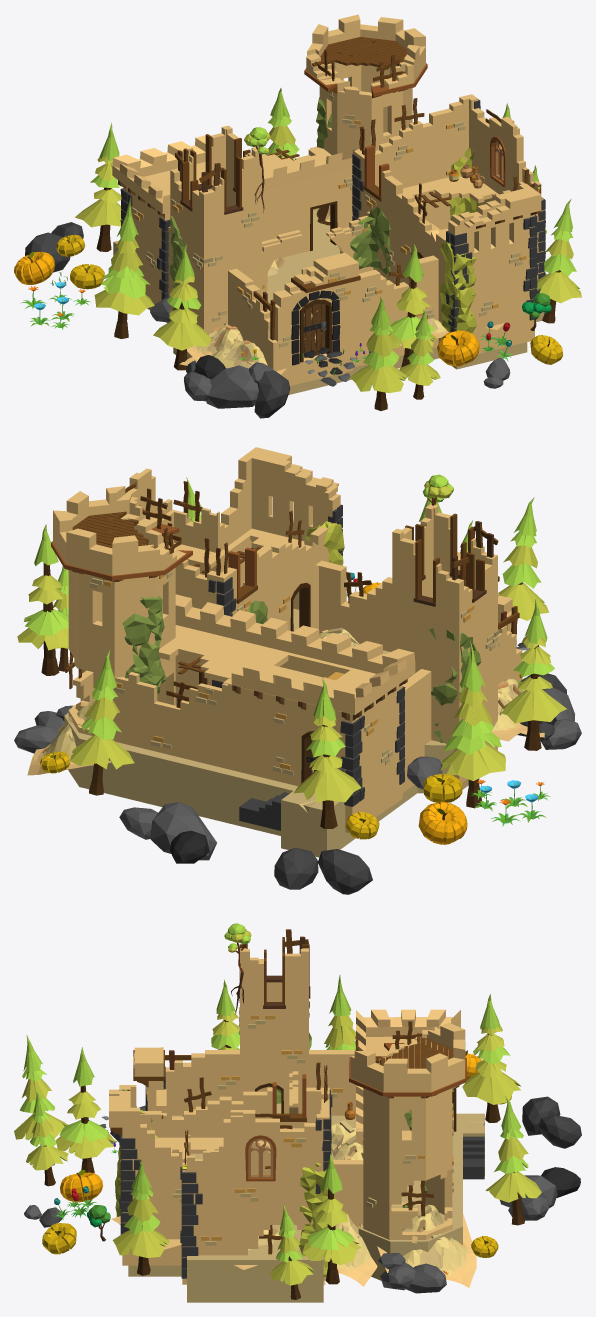
The model's file is CastleRuins.glb.
The picture shows the model from 3 angles, top to bottom: view 1: azimuth 30°, elevation 25°; view 2: azimuth 150°, elevation 25°; view 3: azimuth 270°, elevation 25°; orthographic projection. The views are drawn at different scales.
Parts seen in each view (by area): view 1: structure_2, structure_3, Tower, structure_1, walls, wall_3, battlement_1, forest.002_5, base, bricks, forest.002_3, forest.002_1 (+29 smaller); view 2: structure_1, structure_2, Tower, structure_3, base, battlement_1, walls, forest.002_5, forest.002_10, forest.002_3, forest.002_9, forest.002_7 (+27 smaller); view 3: structure_2, Tower, base, structure_3, walls, forest.002_10, forest.002_7, debris_10, forest.002_2, forest.002_6, forest.002_9, battlement_1 (+30 smaller).
Boxes of the visible parts, box(x1,y1,x2,y2) form: structure_2: box(354, 94, 543, 353); structure_3: box(170, 125, 261, 358); Tower: box(304, 14, 427, 226); structure_1: box(123, 146, 352, 304); walls: box(167, 227, 438, 375); wall_3: box(270, 252, 358, 385); battlement_1: box(112, 134, 364, 213); forest.002_5: box(94, 197, 154, 338); base: box(113, 210, 546, 394); bricks: box(132, 87, 526, 347); forest.002_3: box(153, 243, 211, 370); forest.002_1: box(350, 296, 406, 410); structure_1: box(112, 625, 402, 832); structure_2: box(125, 447, 340, 685); Tower: box(51, 486, 192, 735); structure_3: box(392, 504, 497, 782); base: box(64, 608, 468, 857); battlement_1: box(175, 594, 415, 714); walls: box(316, 560, 522, 792); forest.002_5: box(441, 640, 505, 807); forest.002_10: box(294, 677, 361, 828); forest.002_3: box(501, 598, 566, 750); forest.002_9: box(70, 649, 134, 795); forest.002_7: box(17, 524, 68, 675); structure_2: box(109, 1085, 329, 1284); Tower: box(349, 1022, 466, 1239); base: box(128, 1103, 484, 1302); structure_3: box(240, 948, 308, 1113); walls: box(156, 1050, 363, 1228); forest.002_10: box(462, 994, 520, 1122); forest.002_7: box(302, 1153, 361, 1284); debris_10: box(377, 1204, 476, 1287); forest.002_2: box(55, 1047, 115, 1172); forest.002_6: box(112, 1160, 169, 1275); forest.002_9: box(485, 1096, 541, 1225); battlement_1: box(356, 1009, 460, 1145).
Size of what is drawn, in the model's own units: 20.99 by 10.22 by 21.15.
Materials: 1 (1 with a texture image).
